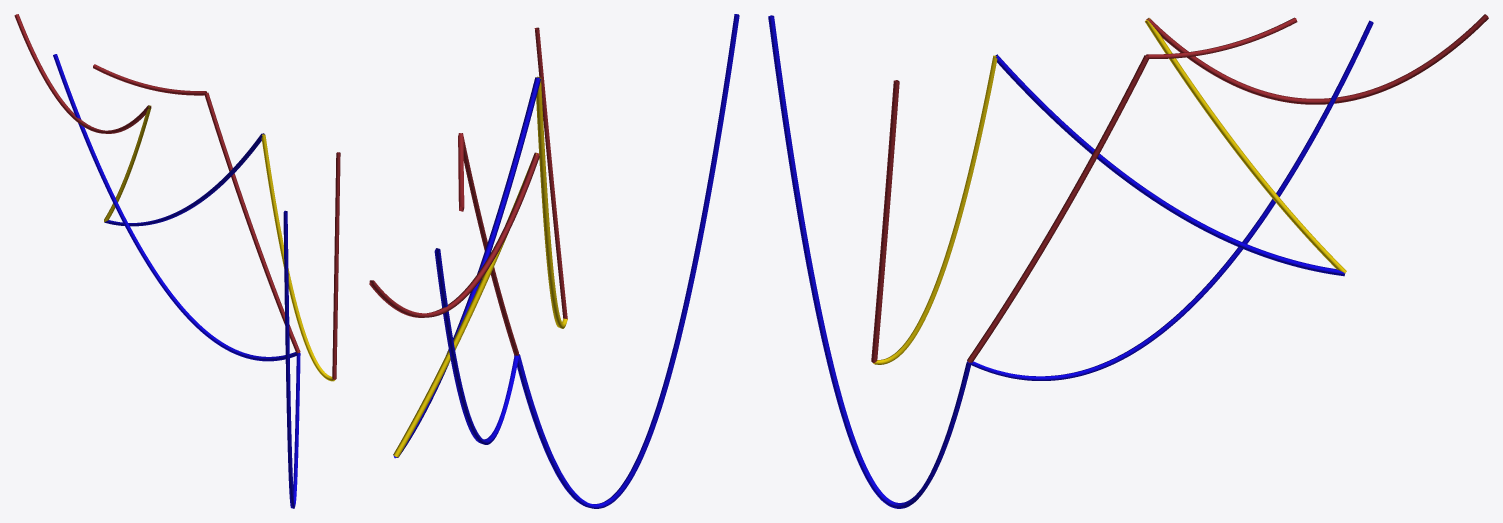
The model's file is Pipes_6.fbx.
The picture shows the model from 3 angles, left to right: view 1: azimuth 30°, elevation 25°; view 2: azimuth 150°, elevation 25°; view 3: azimuth 270°, elevation 25°; orthographic projection. The views are drawn at different scales.
Parts seen in each view (by area): view 1: Catenary.059, Catenary.083, Catenary.079, Catenary.058, Catenary.057, Catenary.082, Catenary.080, Catenary.081, Catenary.078; view 2: Catenary.059, Catenary.083, Catenary.082, Catenary.080, Catenary.058, Catenary.078, Catenary.057, Catenary.079, Catenary.081; view 3: Catenary.059, Catenary.083, Catenary.080, Catenary.082, Catenary.079, Catenary.078, Catenary.058, Catenary.057, Catenary.081.
Part boxes in pixels (box(x1,y1,x2,y2)): Catenary.059: box(283, 210, 300, 508); Catenary.083: box(53, 54, 299, 361); Catenary.079: box(204, 92, 300, 353); Catenary.058: box(261, 134, 334, 381); Catenary.057: box(332, 152, 340, 379); Catenary.082: box(14, 14, 151, 133); Catenary.080: box(104, 133, 264, 226); Catenary.081: box(93, 64, 206, 95); Catenary.078: box(104, 105, 151, 222); Catenary.059: box(514, 14, 739, 508); Catenary.083: box(434, 248, 519, 444); Catenary.082: box(369, 152, 539, 317); Catenary.080: box(393, 77, 540, 458); Catenary.058: box(536, 76, 567, 328); Catenary.078: box(393, 153, 540, 457); Catenary.057: box(534, 27, 567, 319); Catenary.079: box(458, 133, 518, 355); Catenary.081: box(458, 133, 464, 211); Catenary.059: box(768, 15, 970, 508); Catenary.083: box(968, 20, 1373, 380); Catenary.080: box(995, 54, 1345, 276); Catenary.082: box(1145, 14, 1488, 104); Catenary.079: box(967, 55, 1148, 362); Catenary.078: box(1145, 18, 1346, 273); Catenary.058: box(873, 55, 997, 364); Catenary.057: box(871, 80, 899, 363); Catenary.081: box(1146, 17, 1297, 58).
Bounding box in the file's own units: 328 × 996 × 1420.
